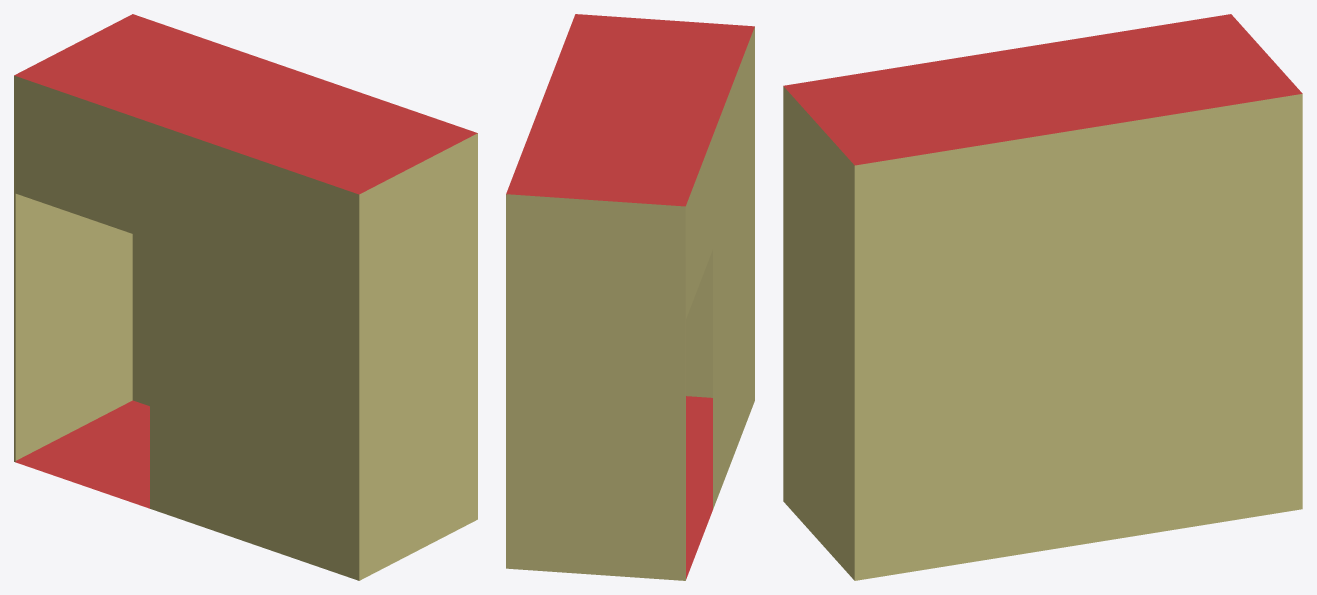
3 views of the same model, side by side, from view 1: azimuth 30°, elevation 25°; view 2: azimuth 150°, elevation 25°; view 3: azimuth 270°, elevation 25° (orthographic). The views are drawn at different scales.
Parts seen in each view (by area): view 1: group_4, group_3, group_5; view 2: group_4, group_3, group_5; view 3: group_4, group_3.
Part boxes in pixels (left/top/right/bottom): group_4: left=14, top=75, right=477, bottom=580; group_3: left=14, top=14, right=477, bottom=194; group_5: left=15, top=400, right=149, bottom=508; group_4: left=506, top=27, right=754, bottom=580; group_3: left=506, top=14, right=754, bottom=206; group_5: left=686, top=396, right=712, bottom=579; group_4: left=783, top=86, right=1302, bottom=580; group_3: left=783, top=14, right=1302, bottom=165.
Size of the model in its own units: 8.2 by 11.88 by 10.48.
